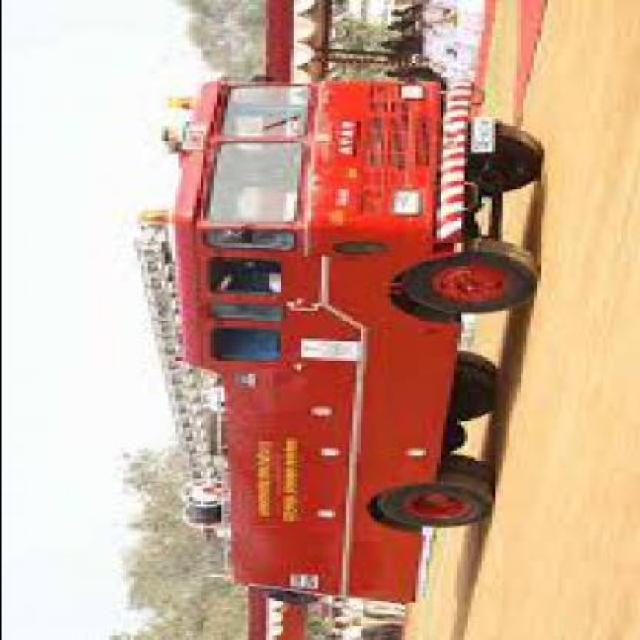Fire Truck: (122, 65, 543, 607)
